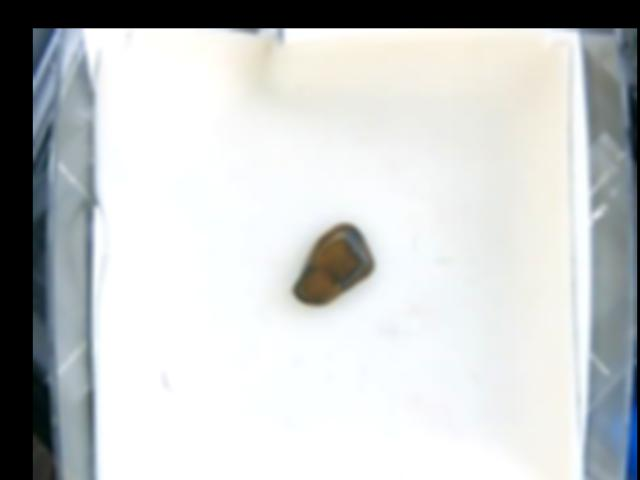Pebble: (291, 220, 378, 305)
